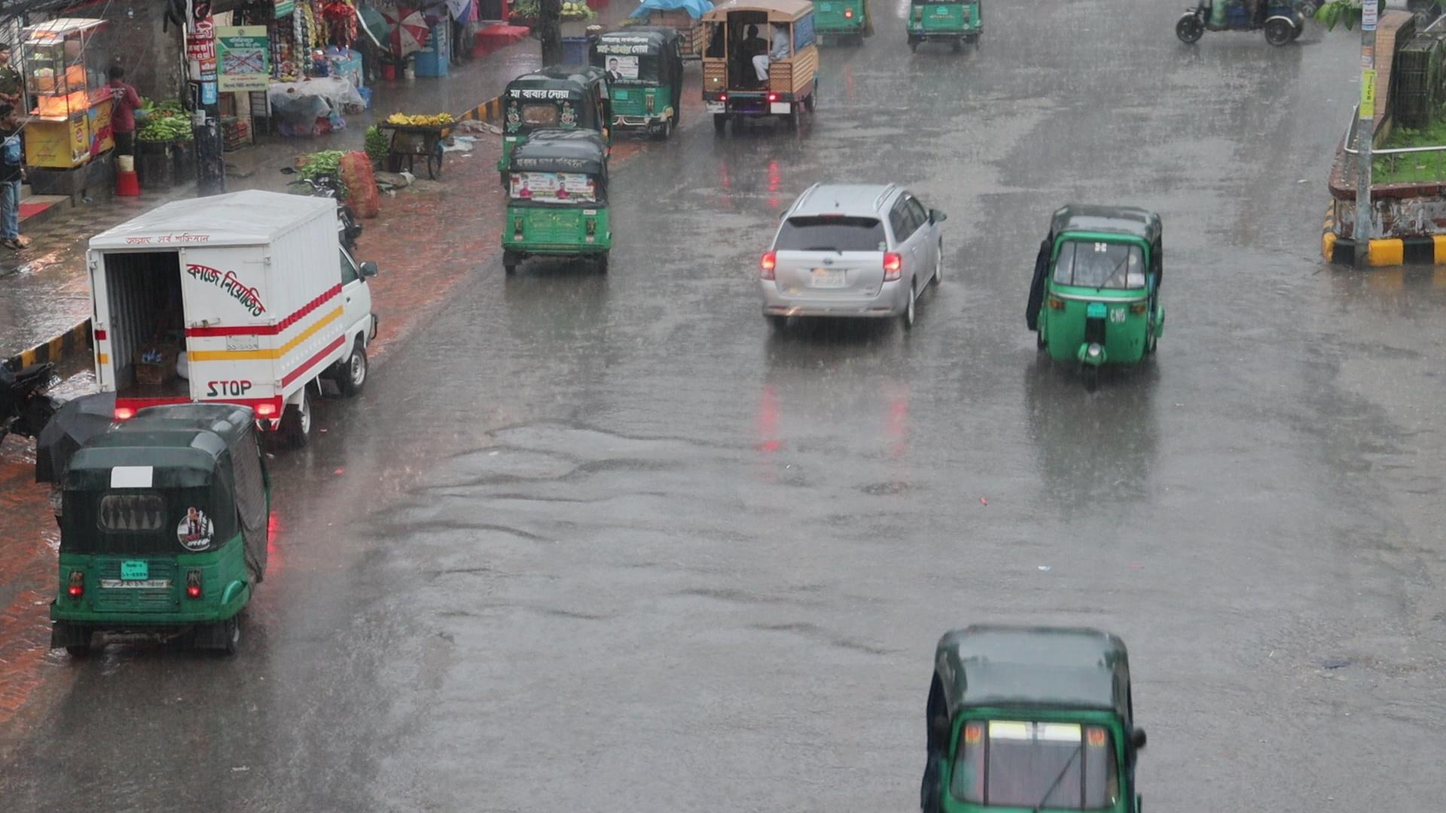Car: (752, 183, 946, 341)
Truck: (692, 0, 820, 140)
